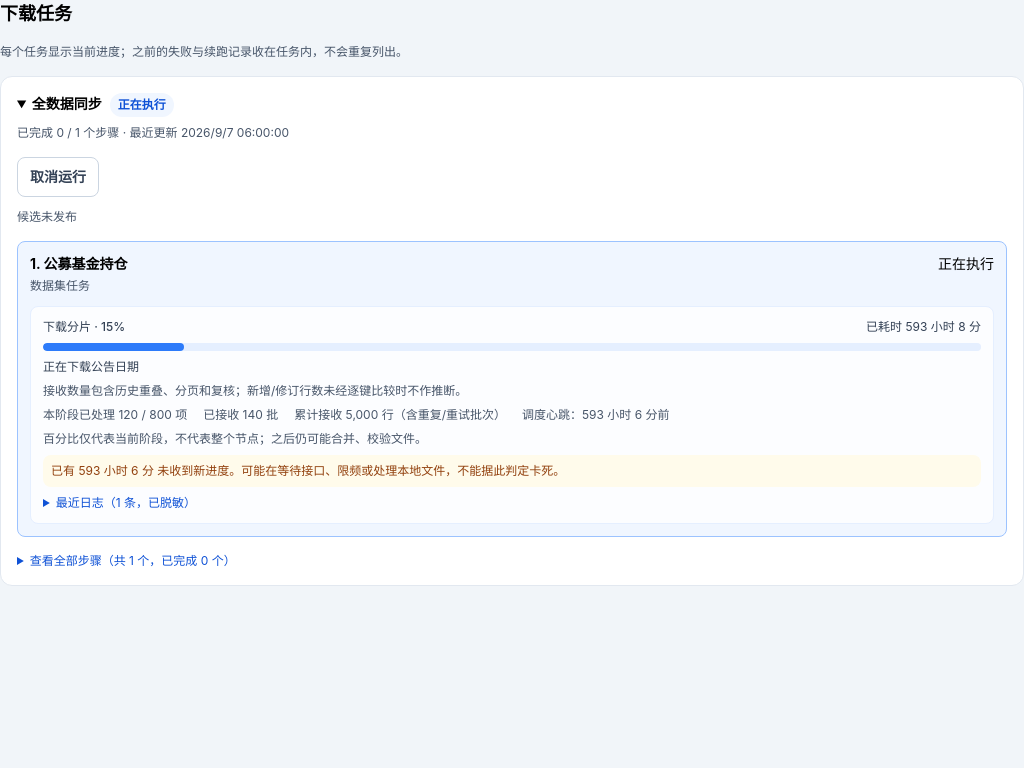
Test: 只有一个执行步骤时也提供全部步骤入口，空任务不显示入口
Step 1. Click the heading "查看全部步骤（共 1 个，已完成 0 个）" → click(133, 560), box [30,553,236,568]
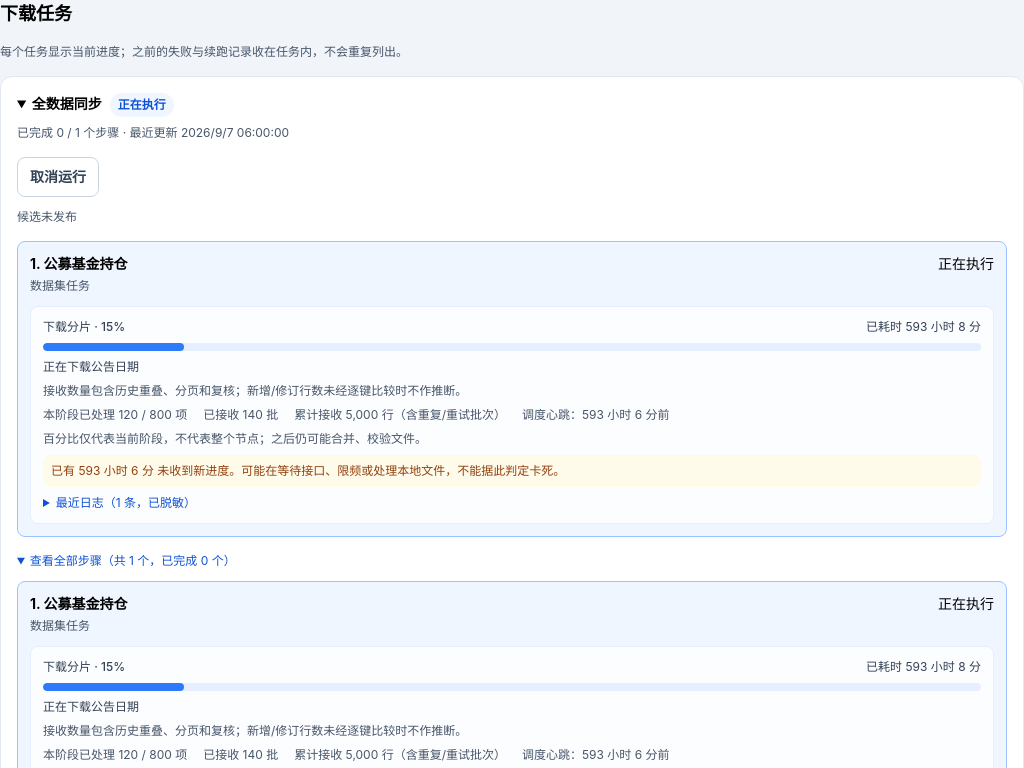
expect the number of progress indicators is 2: met, box [43,343,981,351]; [43,683,981,691]
